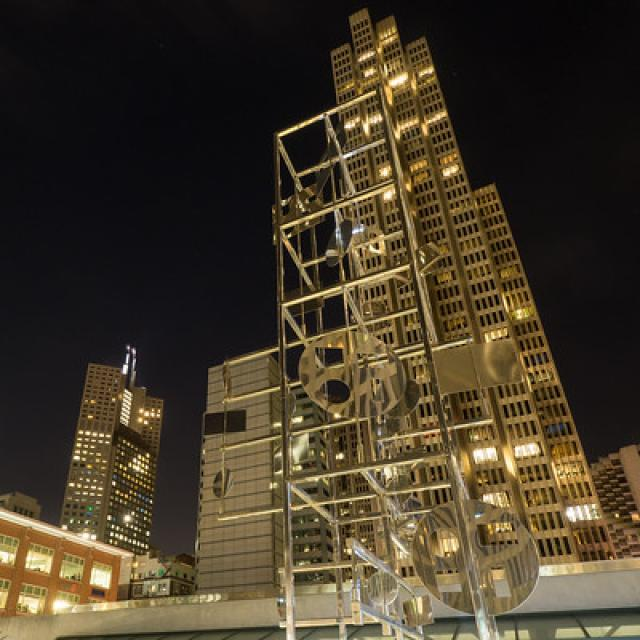building: (260, 6, 622, 637), (68, 358, 167, 566)
